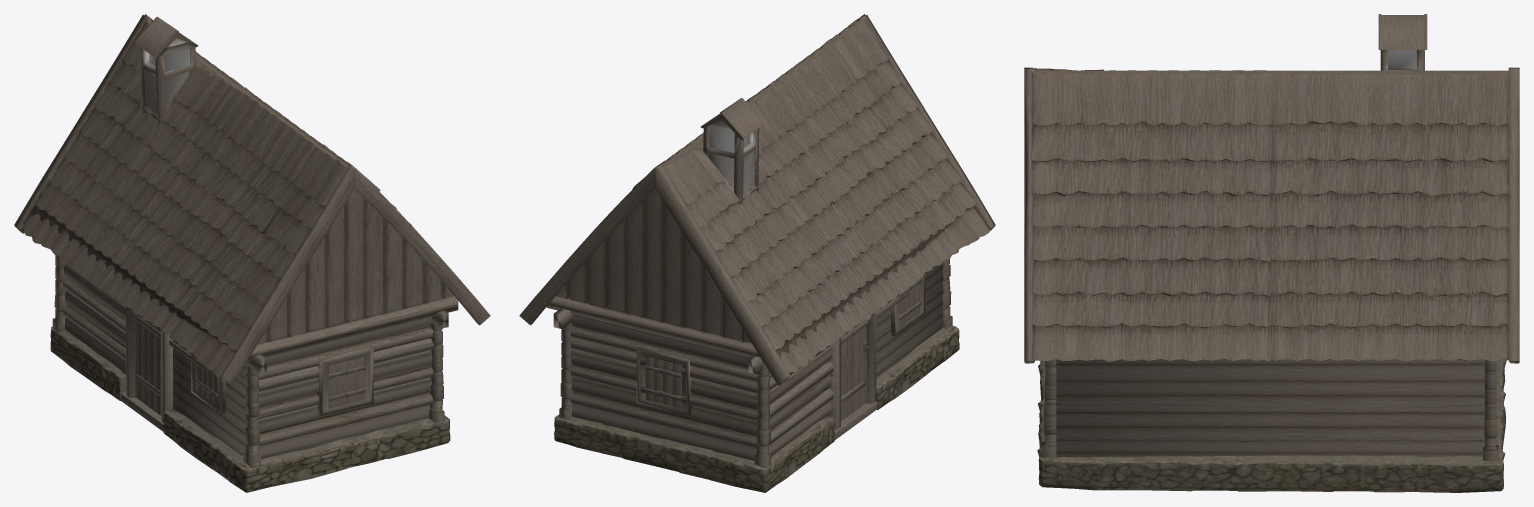
Rendered from civic_residence_tier_1.glb.
3 renders of one model, left to right at view 1: azimuth 30°, elevation 25°; view 2: azimuth 150°, elevation 25°; view 3: azimuth 270°, elevation 25°, orthographic. The views are drawn at different scales.
Visible parts, largest first — view 1: tripo_node_914cd2fb-48af-49ab-a7c4-c346350e679a; view 2: tripo_node_914cd2fb-48af-49ab-a7c4-c346350e679a; view 3: tripo_node_914cd2fb-48af-49ab-a7c4-c346350e679a.
Part boxes in pixels (x1=…): tripo_node_914cd2fb-48af-49ab-a7c4-c346350e679a: x1=14, y1=14, x2=490, y2=492; tripo_node_914cd2fb-48af-49ab-a7c4-c346350e679a: x1=519, y1=14, x2=995, y2=492; tripo_node_914cd2fb-48af-49ab-a7c4-c346350e679a: x1=1024, y1=14, x2=1519, y2=492.
Bounding box in the file's own units: 0.7397 × 0.8931 × 0.9995.
Materials: 1 (1 with a texture image).
